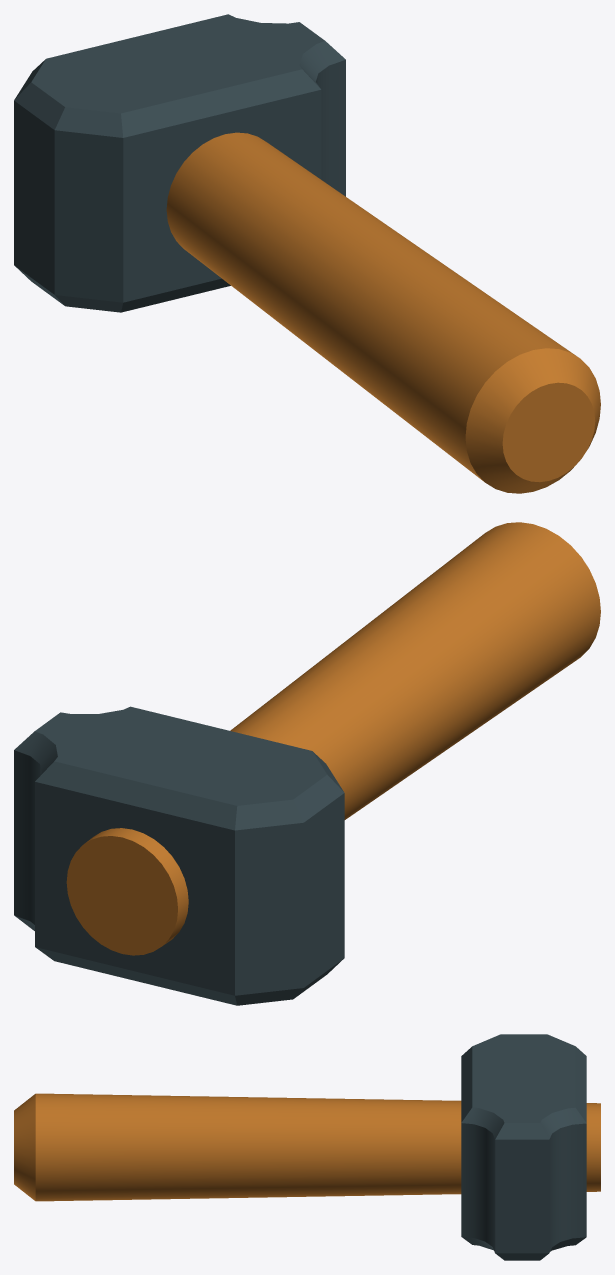
File: SM_Hammer.fbx
3 views of the same model, one above another, from view 1: azimuth 30°, elevation 25°; view 2: azimuth 150°, elevation 25°; view 3: azimuth 270°, elevation 25° (orthographic). The views are drawn at different scales.
Visible parts, largest first — view 1: SM_Hammer; view 2: SM_Hammer; view 3: SM_Hammer.
Part boxes in pixels (box(x1,y1,x2,y2)): SM_Hammer: box(14, 14, 600, 493); SM_Hammer: box(14, 522, 600, 1005); SM_Hammer: box(14, 1034, 600, 1260).
Size of the model in its own units: 16.26 by 10.64 by 41.15.
